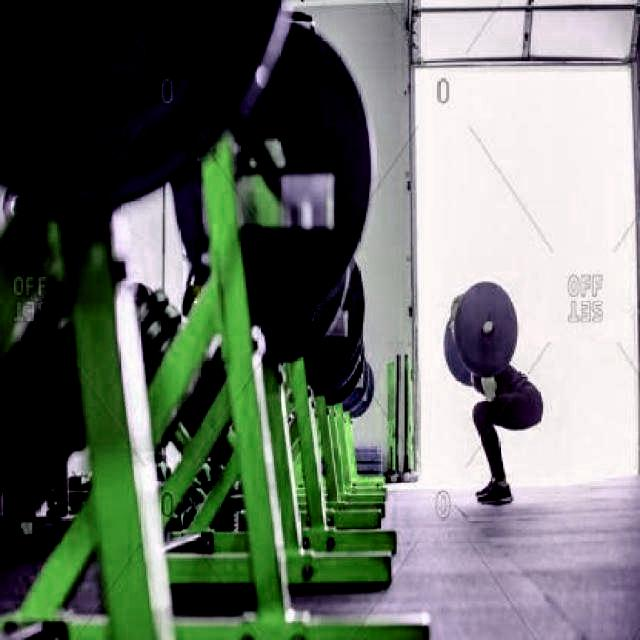barbell: (450, 273, 525, 380)
